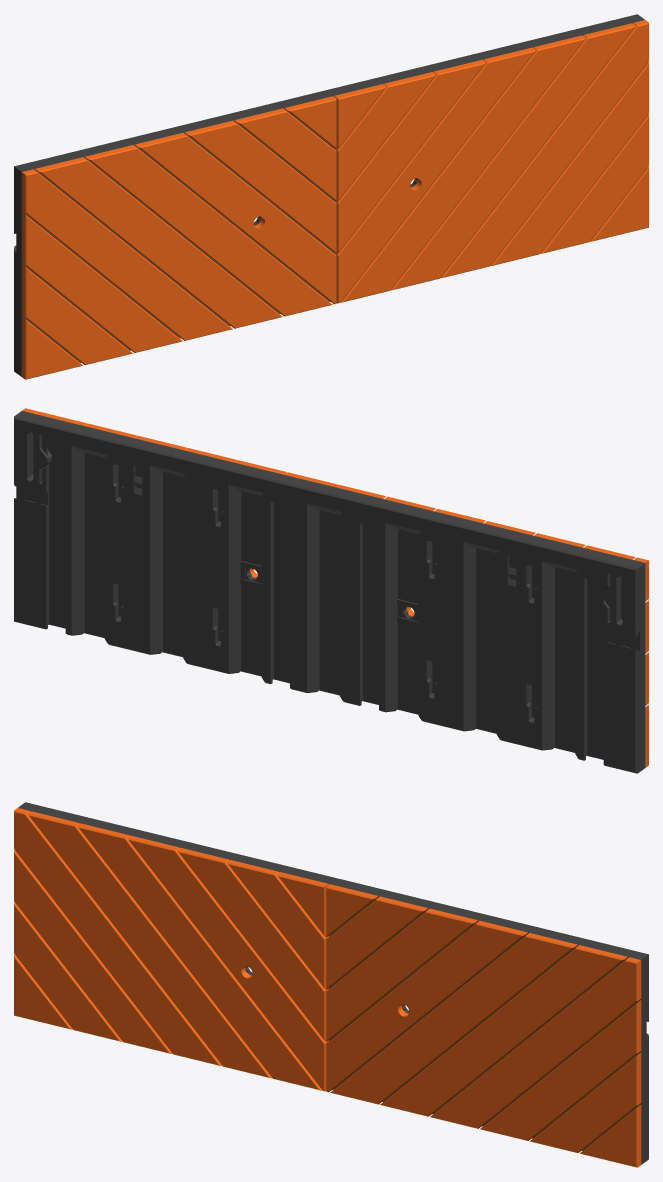
File: Faceplate_Chevron_2W-1H.lib.glb
3 views of the same model, one above another, from view 1: azimuth 30°, elevation 25°; view 2: azimuth 150°, elevation 25°; view 3: azimuth 330°, elevation 25° (orthographic).
Visible parts, largest first — view 1: Faceplate_Chevron_2W-1H; view 2: Faceplate_Chevron_2W-1H; view 3: Faceplate_Chevron_2W-1H.
Part boxes in pixels (bbox=[...]): Faceplate_Chevron_2W-1H: bbox=[14, 14, 648, 379]; Faceplate_Chevron_2W-1H: bbox=[14, 408, 648, 773]; Faceplate_Chevron_2W-1H: bbox=[14, 802, 648, 1167].
Size of the model in its own units: 175 by 54.99 by 6.2.
